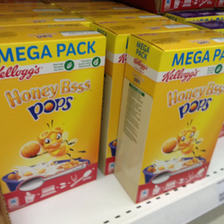cereal: (114, 29, 224, 205), (1, 23, 107, 198)
